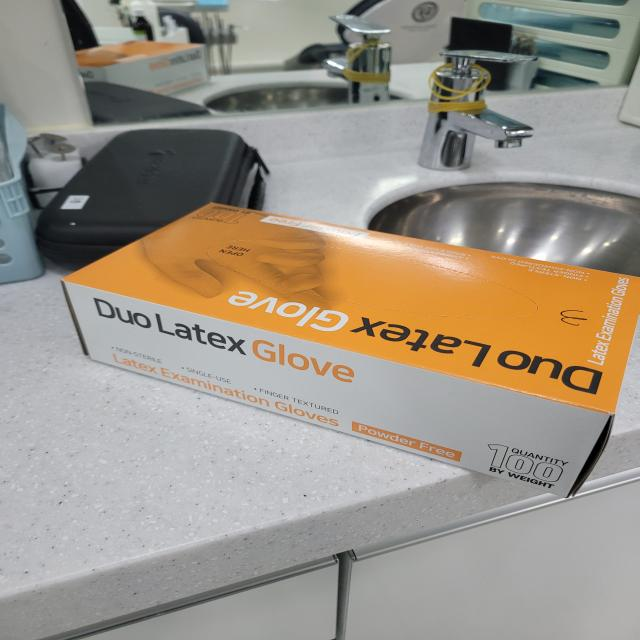glove: (52, 191, 640, 516)
